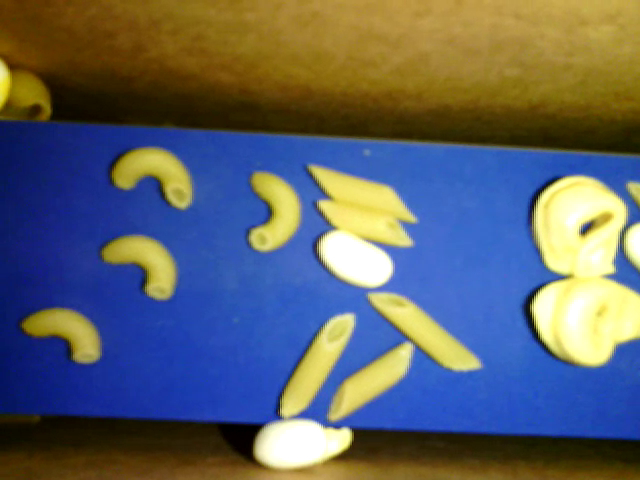elbow: (106, 146, 194, 211), (100, 233, 177, 302), (22, 308, 103, 369), (246, 171, 301, 254)
penne: (365, 292, 482, 372), (276, 311, 356, 419), (306, 162, 423, 223), (329, 340, 414, 422), (317, 199, 414, 247)
shell: (2, 65, 51, 125)
tortellini: (526, 173, 629, 279), (524, 277, 637, 366)
